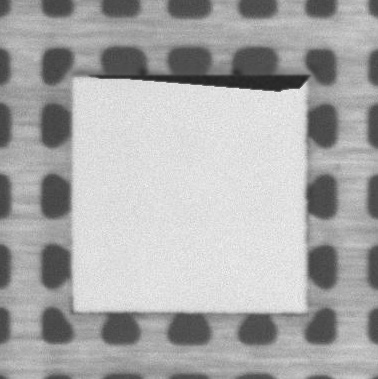DIE_BROKEN: (88, 69, 311, 92)
